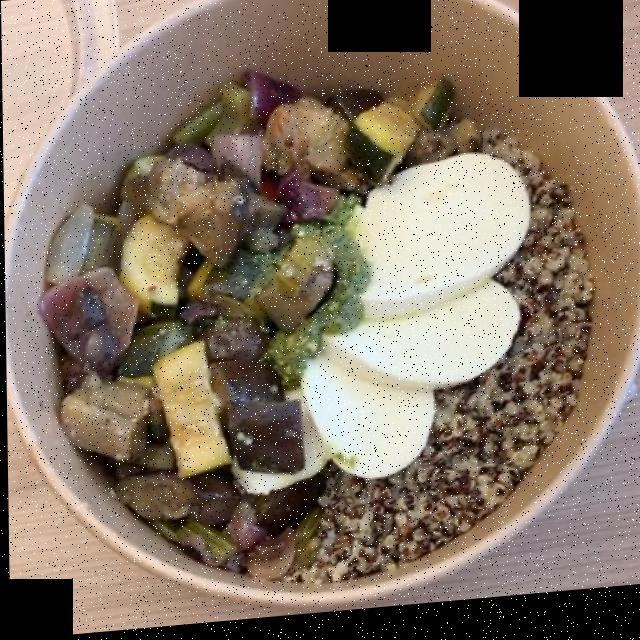cheese: (240, 172, 537, 502)
mixed-vegetables: (34, 80, 492, 583)
quinoa: (300, 143, 609, 589)
sauce: (245, 206, 363, 381)
